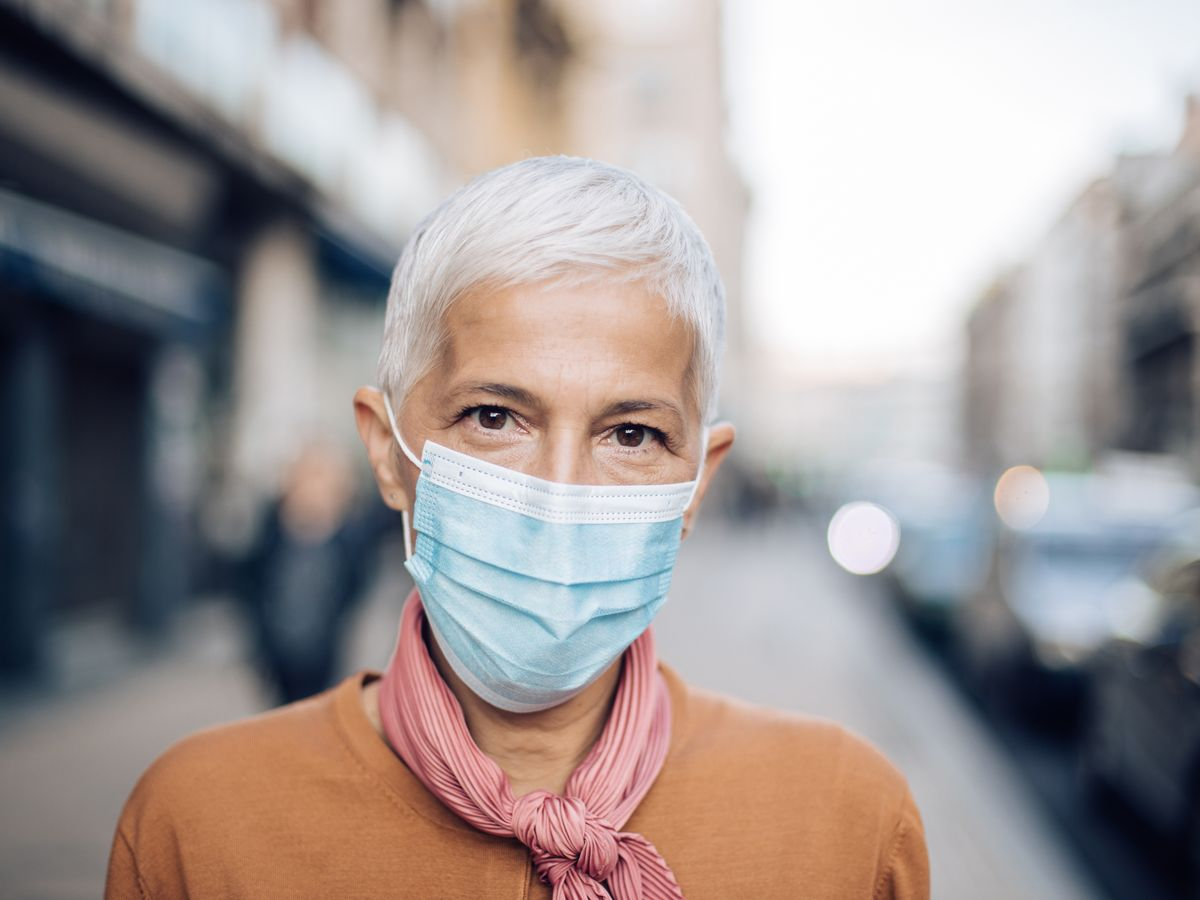with_mask: (381, 372, 740, 715)
